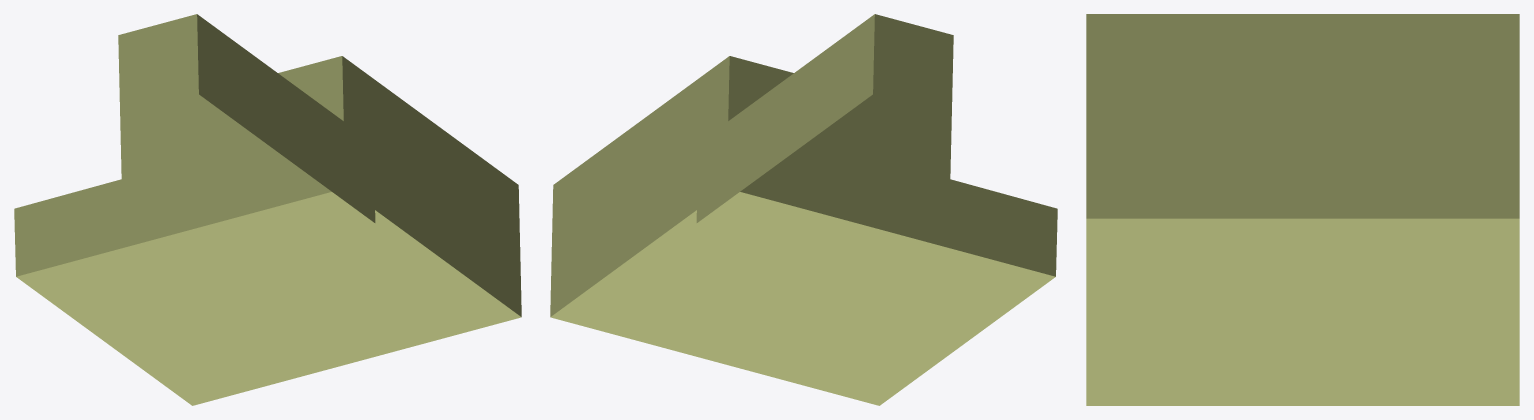
3 renders of one model, left to right at view 1: azimuth 30°, elevation 25°; view 2: azimuth 150°, elevation 25°; view 3: azimuth 270°, elevation 25°, orthographic. The views are drawn at different scales.
Parts seen in each view (by area): view 1: 0_0_1_3_2_2_3_2_2; view 2: 0_0_1_3_2_2_3_2_2; view 3: 0_0_1_3_2_2_3_2_2.
Boxes of the visible parts, left/top/right/bottom form: 0_0_1_3_2_2_3_2_2: left=14, top=14, right=521, bottom=405; 0_0_1_3_2_2_3_2_2: left=550, top=14, right=1057, bottom=405; 0_0_1_3_2_2_3_2_2: left=1086, top=14, right=1519, bottom=405.
Bounding box in the file's own units: 9.75 × 6.15 × 9.
